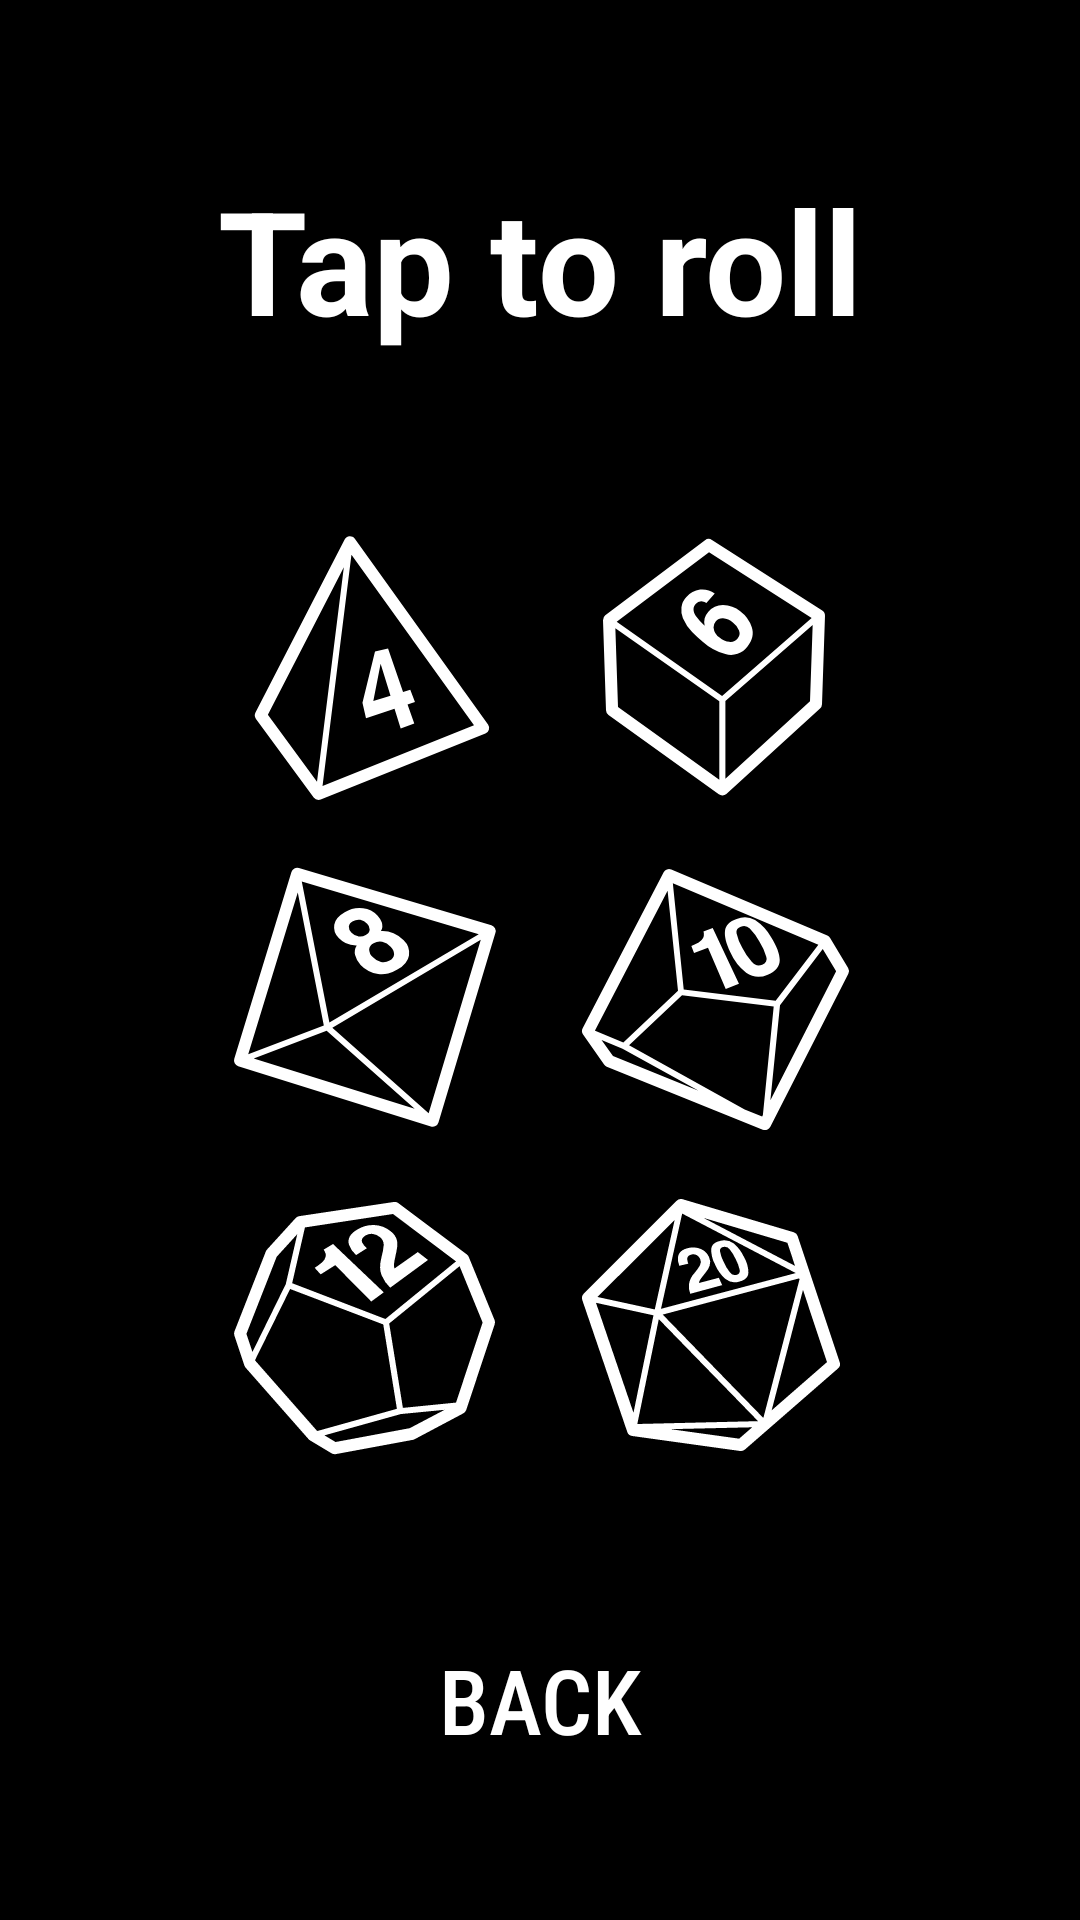

Named icons in this screenshot (1080px×1920px) and their bounding boxes, (x1,y1,x2,y2):
roll 10-sided die: (582,869,849,1130)
roll 12-sided die: (234,1202,495,1455)
roll 20-sided die: (582,1199,840,1451)
Roll 4-sided die: (254,536,489,800)
roll 6-sided die: (603,538,825,796)
roll 8-sided die: (234,867,496,1127)
